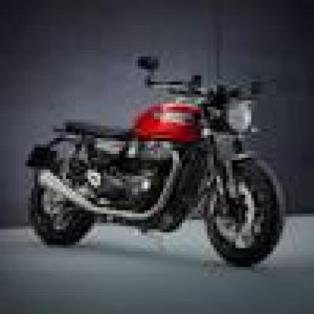Motocicleta: (22, 46, 297, 267)
